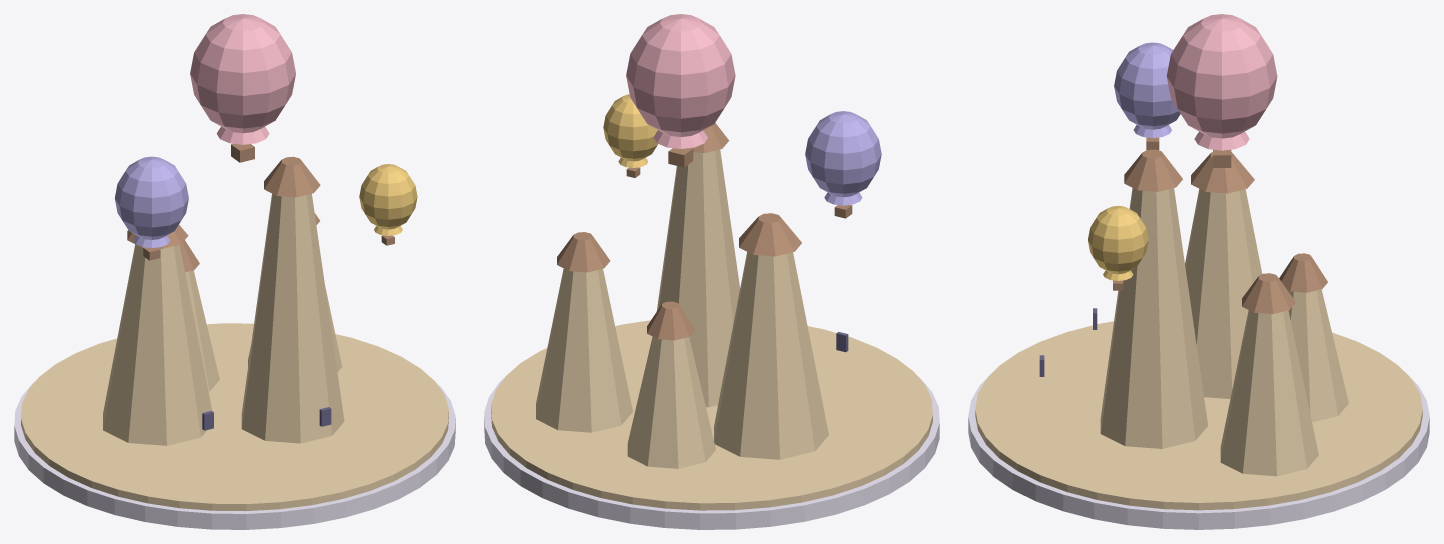
Rendered from peribacasi.glb.
3 views of the same model, side by side, from view 1: azimuth 30°, elevation 25°; view 2: azimuth 150°, elevation 25°; view 3: azimuth 270°, elevation 25° (orthographic). The views are drawn at different scales.
Visible parts, largest first — view 1: peribacasi; view 2: peribacasi; view 3: peribacasi.
Part boxes in pixels (x1,y1,x2,y2): peribacasi: [14, 14, 455, 529]; peribacasi: [484, 14, 939, 529]; peribacasi: [968, 14, 1429, 529].
Bounding box in the file's own units: 2 × 2.03 × 2.
1 material, 1 textured.
